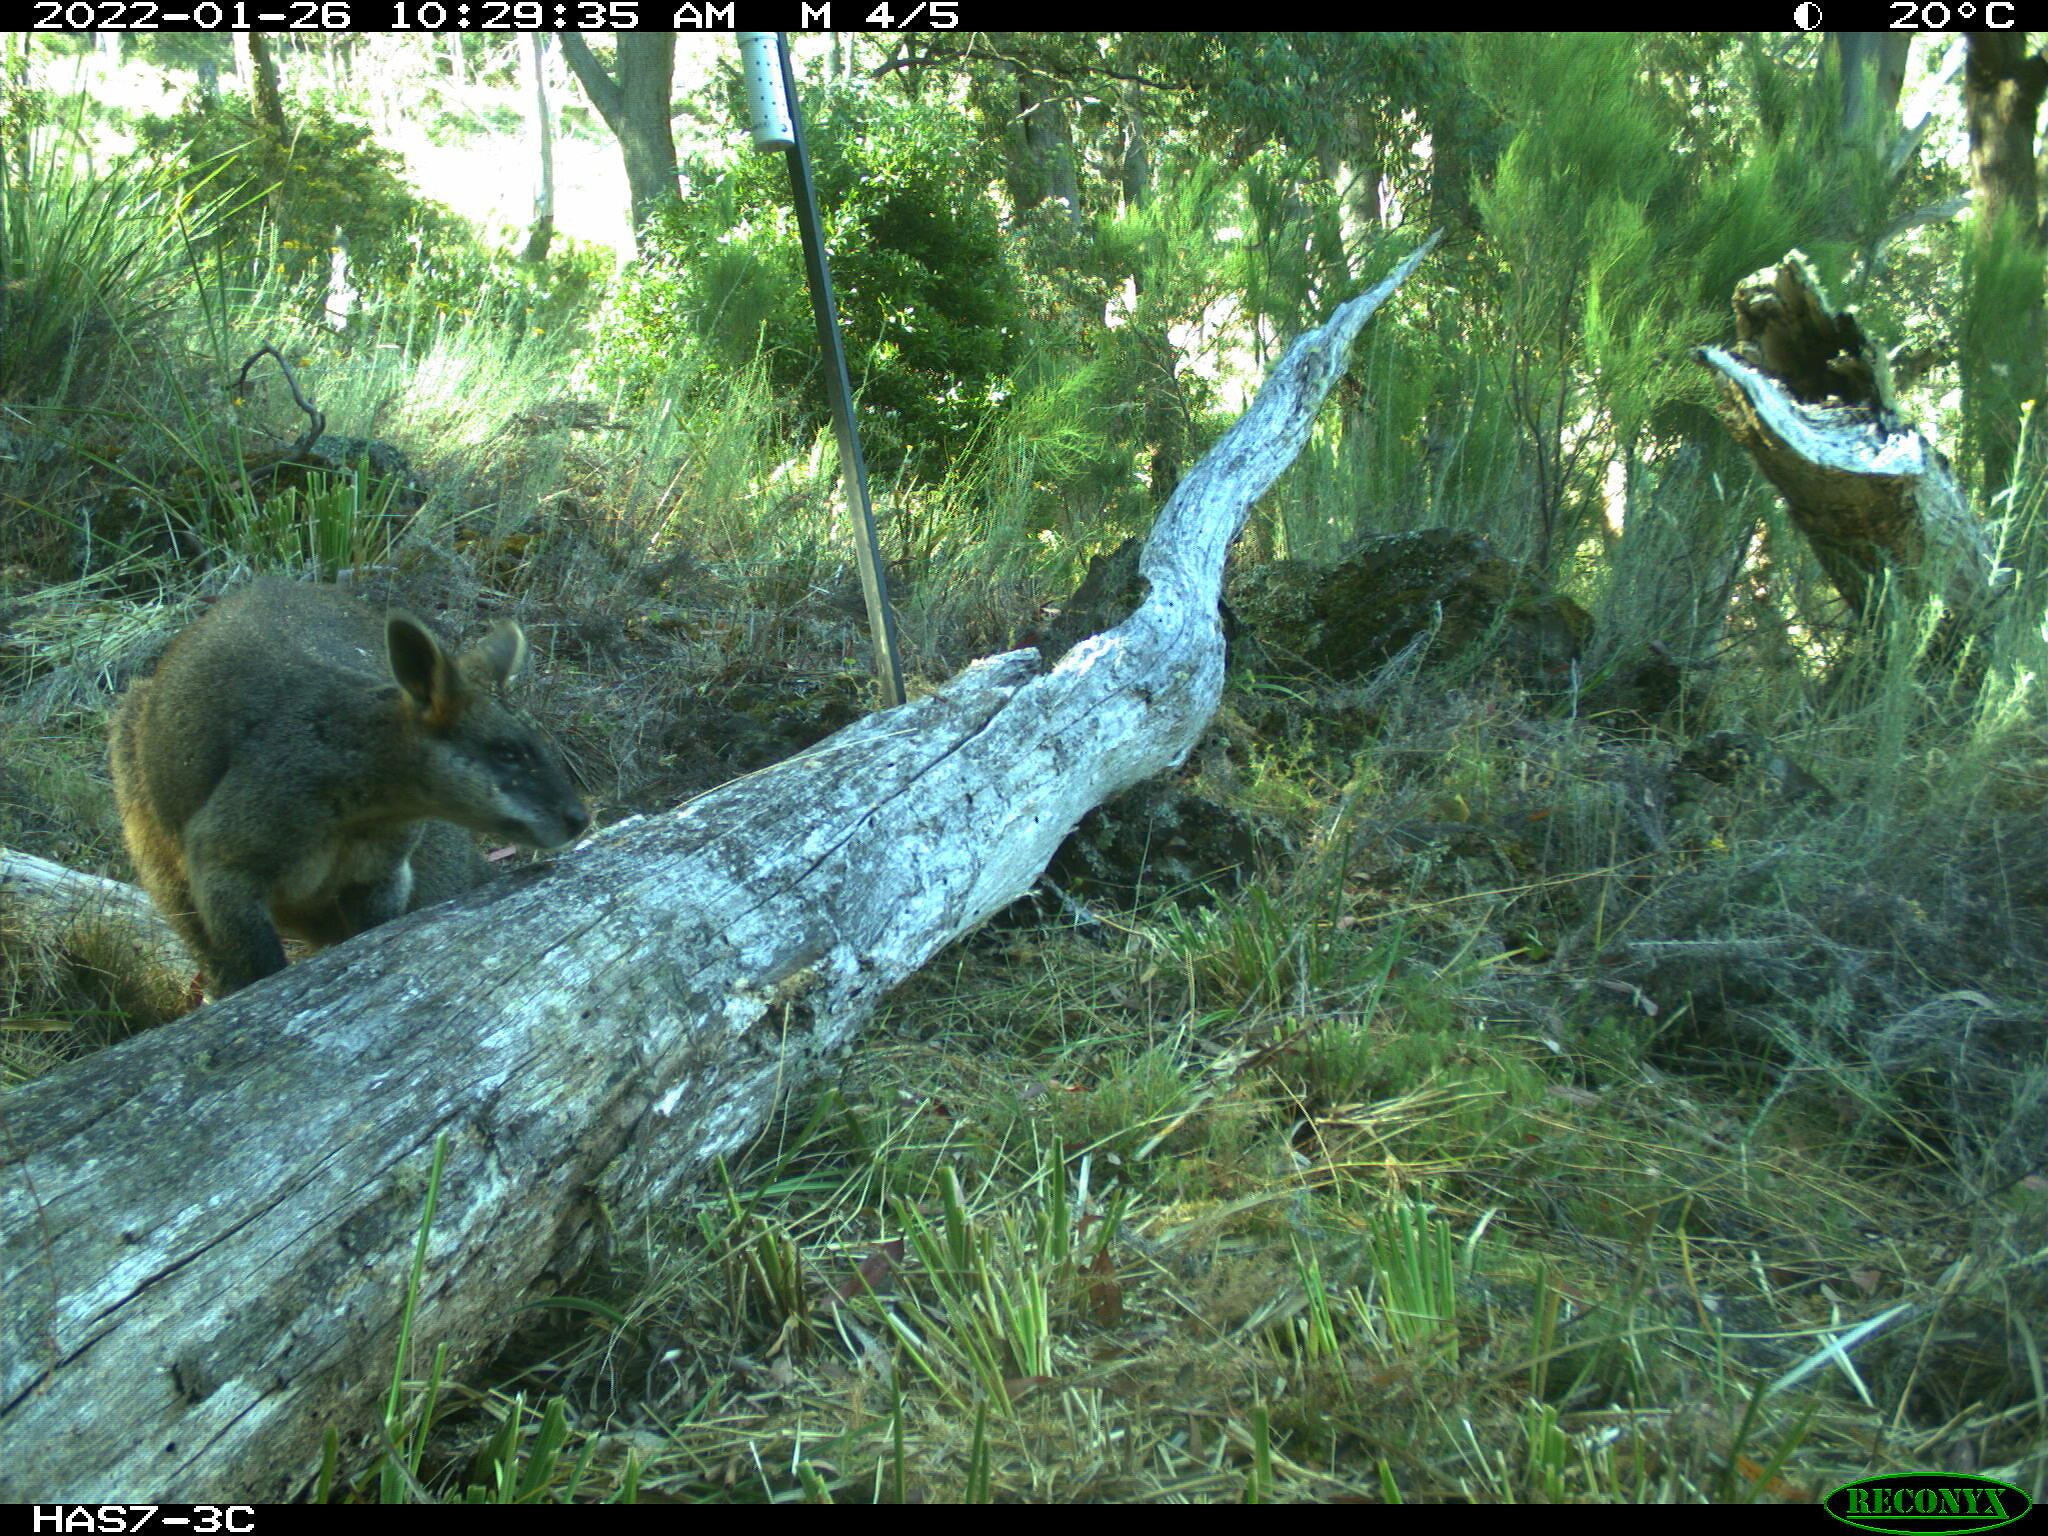Swamp wallaby: (118, 597, 590, 1007)
